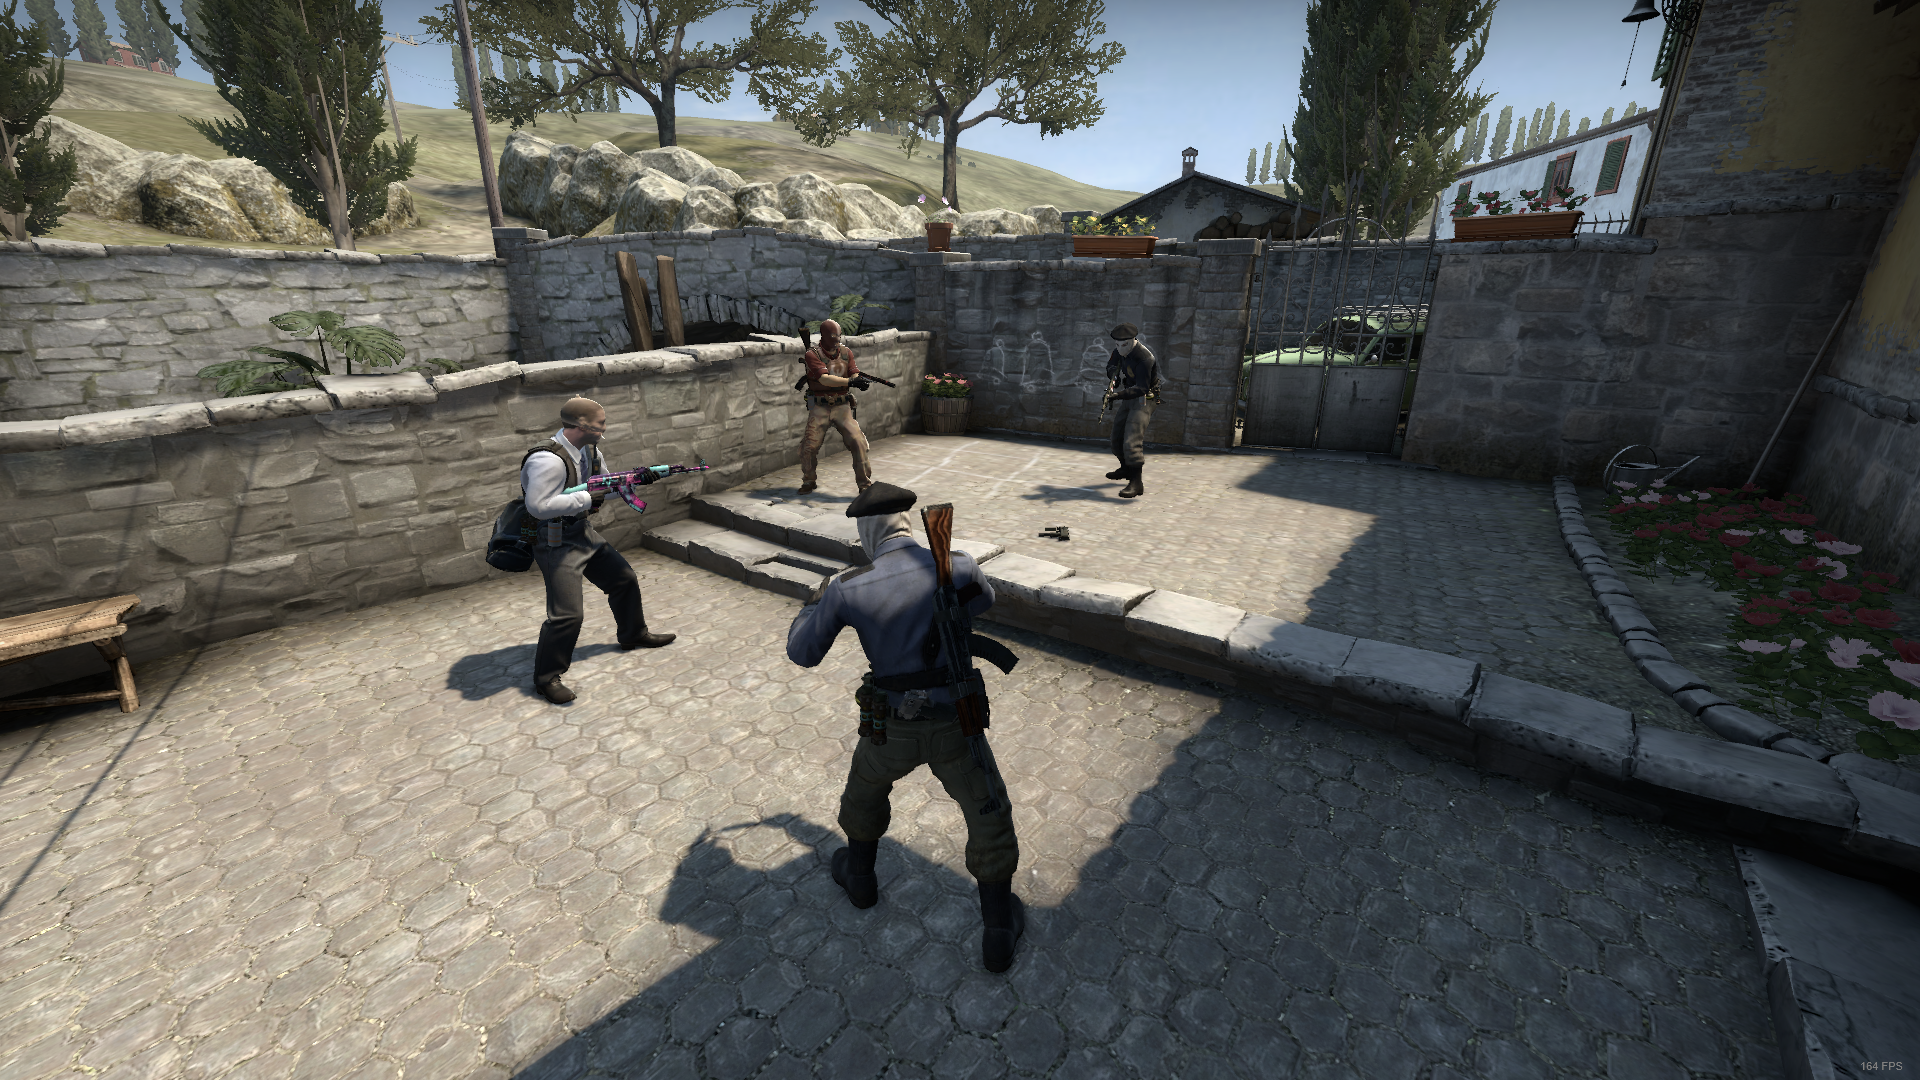t: (783, 483, 1048, 978), (1091, 320, 1164, 491)
